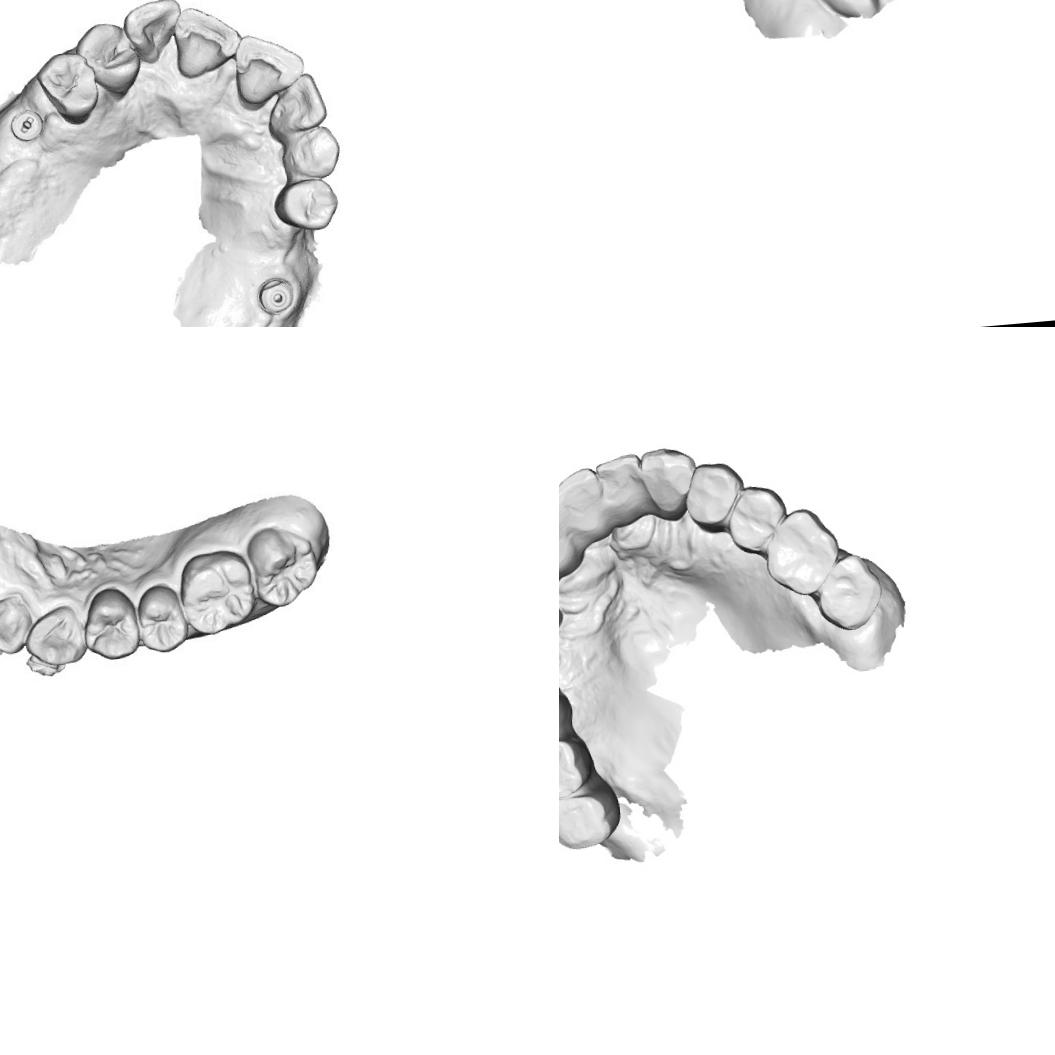canine: (636, 445, 700, 522), (24, 605, 86, 668)
implant: (256, 276, 294, 312)
implant_minus: (8, 106, 42, 140)
incisor: (226, 29, 306, 109), (592, 447, 648, 532), (258, 74, 326, 140), (118, 0, 184, 67), (168, 7, 235, 72), (559, 464, 607, 547), (0, 591, 34, 653), (559, 496, 579, 578)
molar: (760, 504, 846, 602), (175, 546, 261, 636), (246, 520, 322, 610), (812, 550, 886, 634), (559, 778, 623, 853), (559, 732, 596, 804), (811, 0, 904, 24)
premolar: (32, 46, 100, 129), (681, 454, 749, 536), (72, 18, 138, 99), (722, 482, 790, 556), (82, 586, 140, 664), (272, 172, 344, 232), (133, 581, 192, 654), (279, 122, 343, 180)
